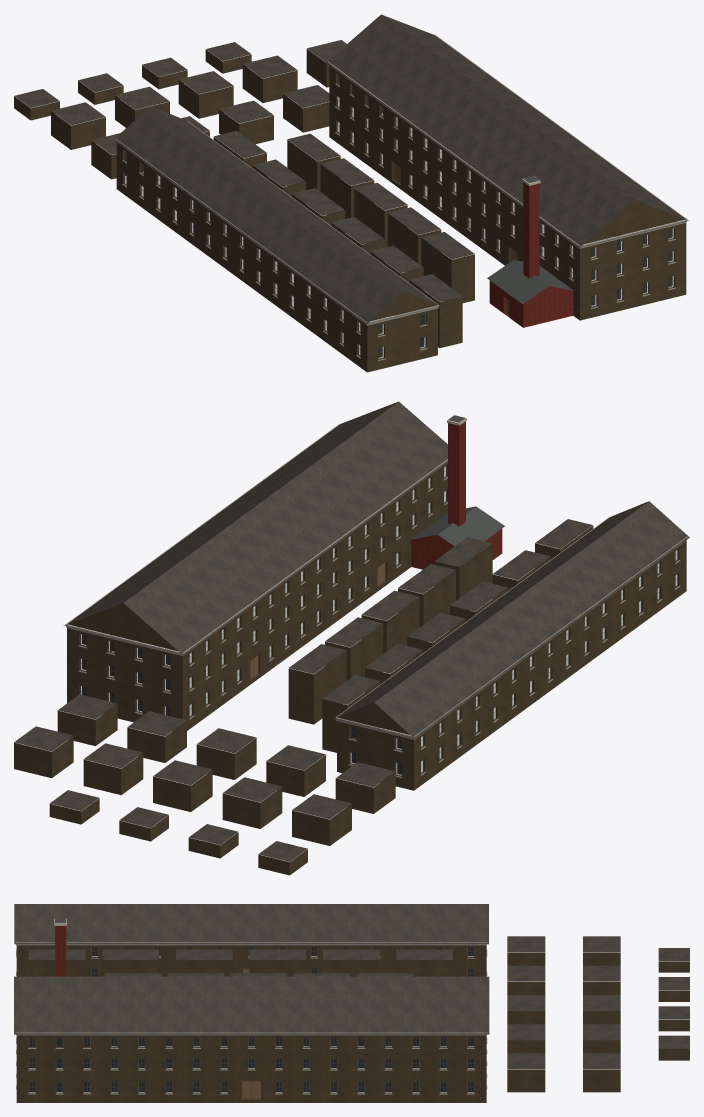
Rendered from bateham_mills_1871__mills_1865_1871.glb.
The picture shows the model from 3 angles, top to bottom: view 1: azimuth 30°, elevation 25°; view 2: azimuth 150°, elevation 25°; view 3: azimuth 270°, elevation 25°; orthographic projection. The views are drawn at different scales.
Visible parts, largest first — view 1: bateham_mills_1871__mills_1865_1871; view 2: bateham_mills_1871__mills_1865_1871; view 3: bateham_mills_1871__mills_1865_1871.
Boxes of the visible parts, box(x1,y1,x2,y2) form: bateham_mills_1871__mills_1865_1871: box(14, 14, 688, 372); bateham_mills_1871__mills_1865_1871: box(14, 401, 689, 875); bateham_mills_1871__mills_1865_1871: box(14, 904, 689, 1102).
Size of the model in its own units: 55.65 by 21.35 by 107.
Materials: 11 (4 with a texture image).
